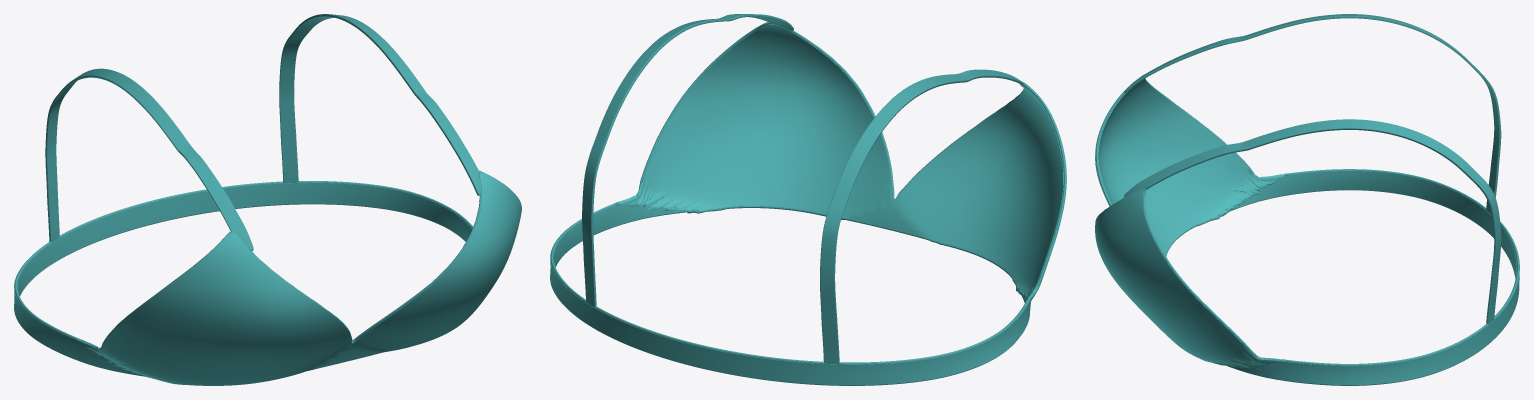
File: Feminine-triangle-top.glb
3 views of the same model, side by side, from view 1: azimuth 30°, elevation 25°; view 2: azimuth 150°, elevation 25°; view 3: azimuth 270°, elevation 25° (orthographic). The views are drawn at different scales.
Parts seen in each view (by area): view 1: Clothing / connected triangle cups and underband, Clothing / Triangle seated shoulder strap 1, Clothing / Triangle seated shoulder strap -1, Triangle / sewn binding 1 export, Triangle / sewn binding 0 export; view 2: Clothing / connected triangle cups and underband, Clothing / Triangle seated shoulder strap -1, Clothing / Triangle seated shoulder strap 1, Triangle / sewn binding 1 export, Triangle / sewn binding 0 export; view 3: Clothing / connected triangle cups and underband, Clothing / Triangle seated shoulder strap 1, Clothing / Triangle seated shoulder strap -1, Triangle / sewn binding 1 export, Triangle / sewn binding 0 export.
Part boxes in pixels (x1,y1,x2,y2): Clothing / connected triangle cups and underband: (14, 172, 521, 385); Clothing / Triangle seated shoulder strap 1: (279, 14, 481, 195); Clothing / Triangle seated shoulder strap -1: (45, 68, 253, 250); Triangle / sewn binding 1 export: (14, 170, 504, 346); Triangle / sewn binding 0 export: (24, 204, 439, 376); Clothing / connected triangle cups and underband: (550, 22, 1066, 385); Clothing / Triangle seated shoulder strap -1: (820, 69, 1023, 364); Clothing / Triangle seated shoulder strap 1: (582, 14, 793, 307); Triangle / sewn binding 1 export: (550, 22, 1066, 364); Triangle / sewn binding 0 export: (574, 206, 1019, 385); Clothing / connected triangle cups and underband: (1095, 74, 1519, 385); Clothing / Triangle seated shoulder strap 1: (1124, 119, 1501, 324); Clothing / Triangle seated shoulder strap -1: (1124, 14, 1501, 214); Triangle / sewn binding 1 export: (1096, 74, 1519, 365); Triangle / sewn binding 0 export: (1166, 190, 1477, 385).
Size of the model in its own units: 0.5729 by 0.3039 by 0.522.
